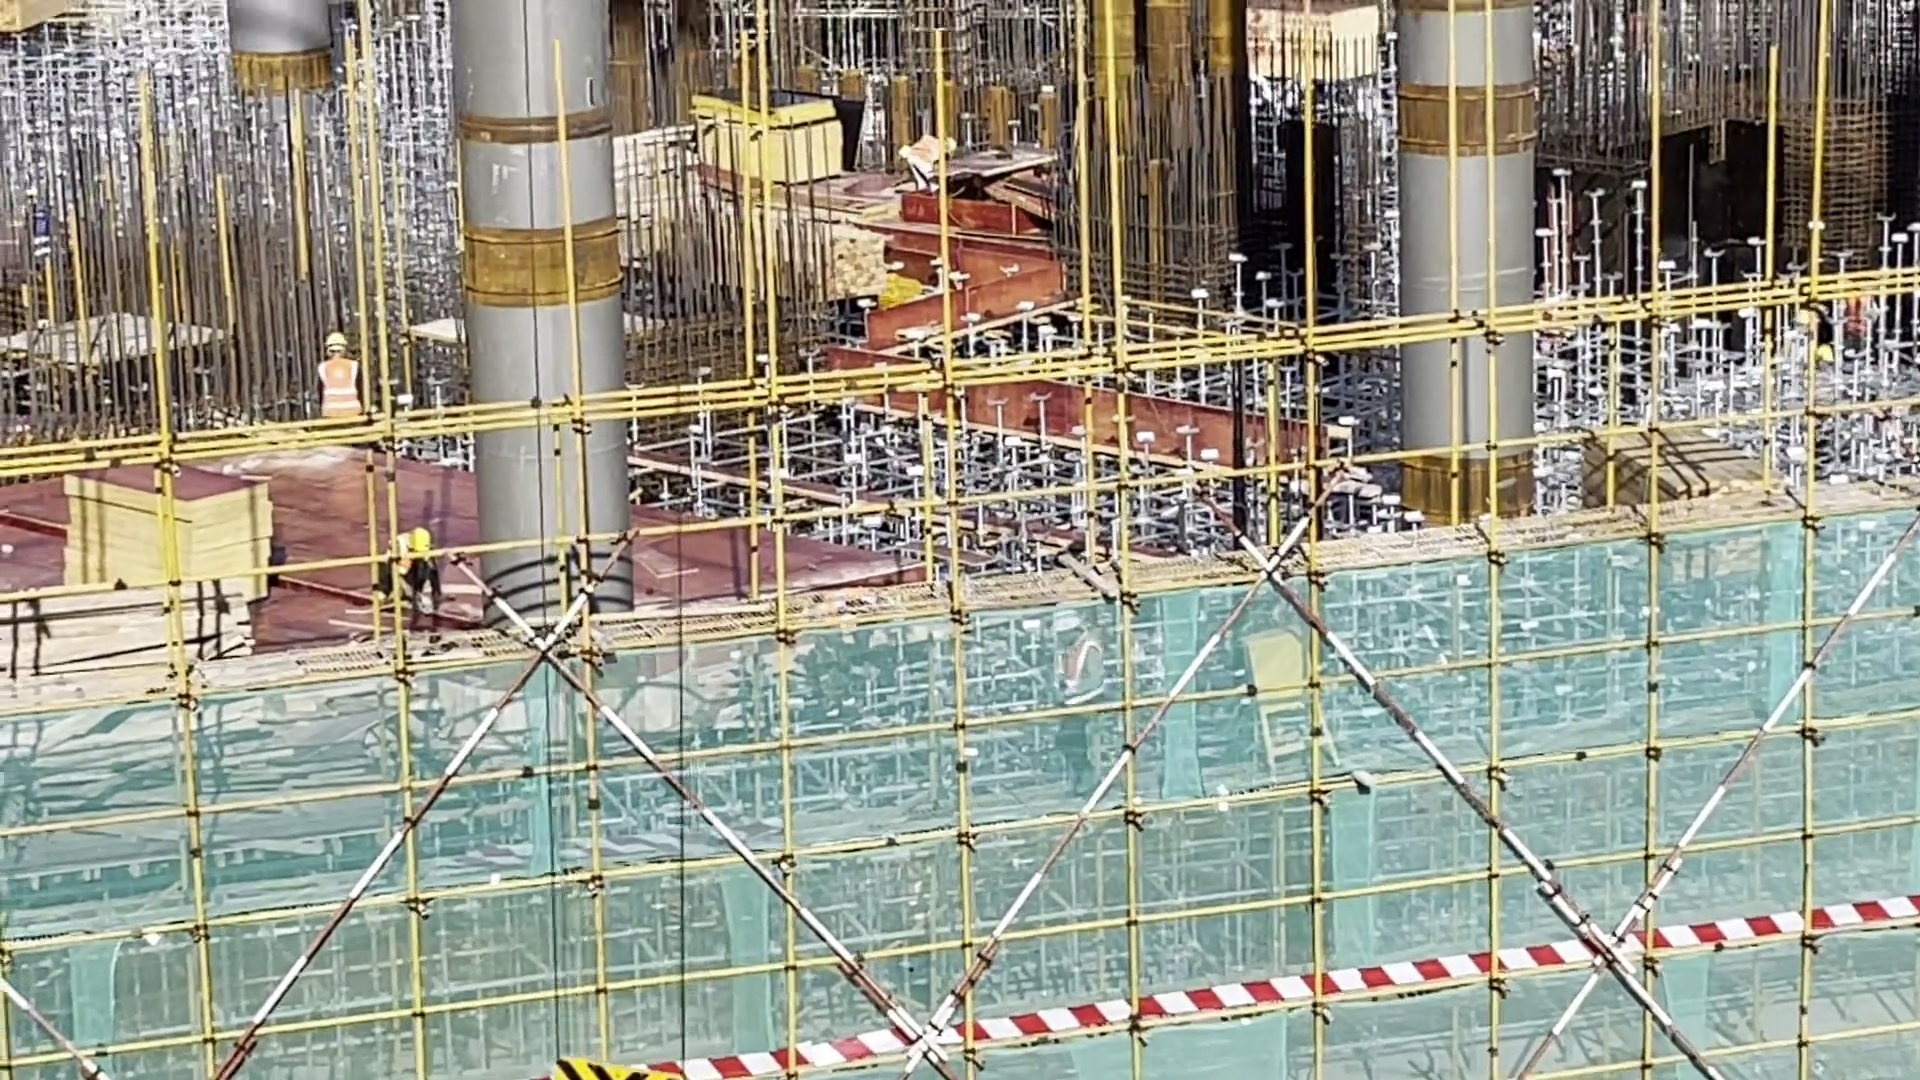board: (65, 454, 283, 606)
person: (309, 337, 377, 438), (386, 519, 442, 627)
vest: (318, 359, 358, 415)
wood: (1590, 429, 1771, 583), (6, 592, 254, 680)
